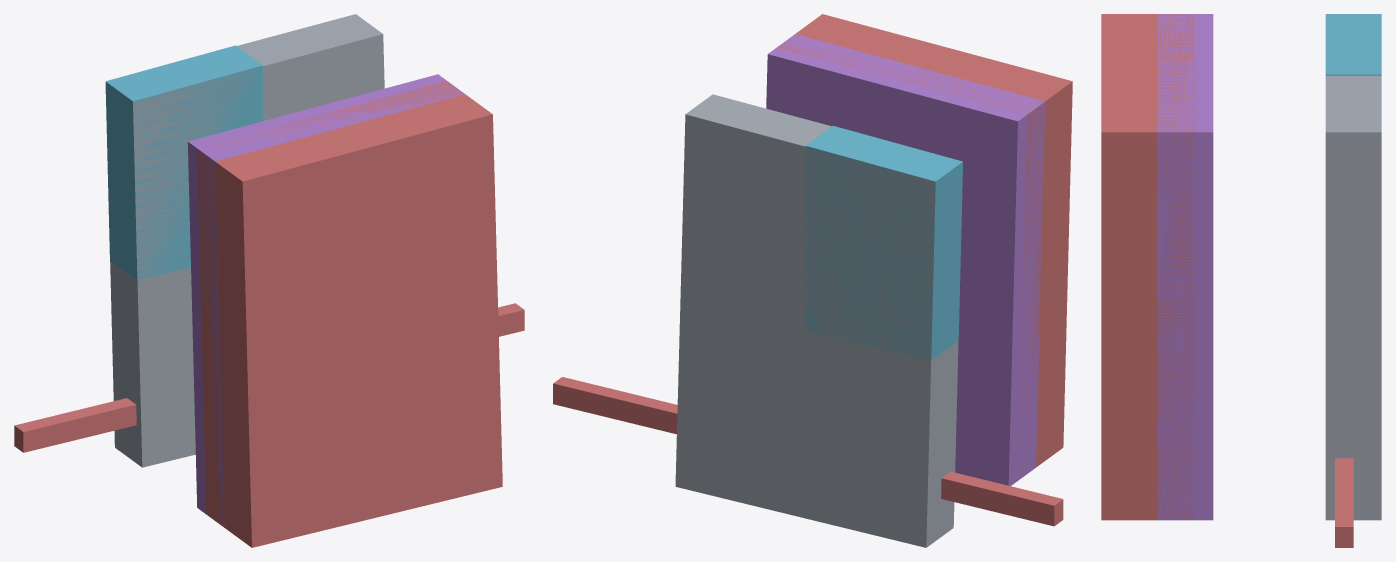
Rendered from topology_validation.glb.
3 renders of one model, left to right at view 1: azimuth 30°, elevation 25°; view 2: azimuth 150°, elevation 25°; view 3: azimuth 270°, elevation 25°, orthographic. The views are drawn at different scales.
Visible parts, largest first — view 1: geometry_4, geometry_0, geometry_2, geometry_1, geometry_3; view 2: geometry_0, geometry_1, geometry_2, geometry_4, geometry_3; view 3: geometry_4, geometry_1, geometry_0, geometry_2, geometry_3.
Part boxes in pixels (box(x1,y1,x2,y2)): geometry_4: box(197, 81, 502, 547); geometry_0: box(110, 14, 384, 467); geometry_2: box(105, 45, 262, 280); geometry_1: box(187, 74, 464, 527); geometry_3: box(14, 303, 524, 452); geometry_0: box(675, 94, 958, 547); geometry_1: box(766, 34, 1045, 485); geometry_2: box(805, 125, 962, 360); geometry_4: box(777, 14, 1072, 467); geometry_3: box(553, 377, 1063, 526); geometry_4: box(1101, 14, 1194, 520); geometry_1: box(1157, 14, 1213, 520); geometry_0: box(1325, 75, 1381, 520); geometry_2: box(1325, 14, 1381, 75); geometry_3: box(1335, 458, 1353, 547).
Bounding box in the file's own units: 31.66 × 22.62 × 15.
